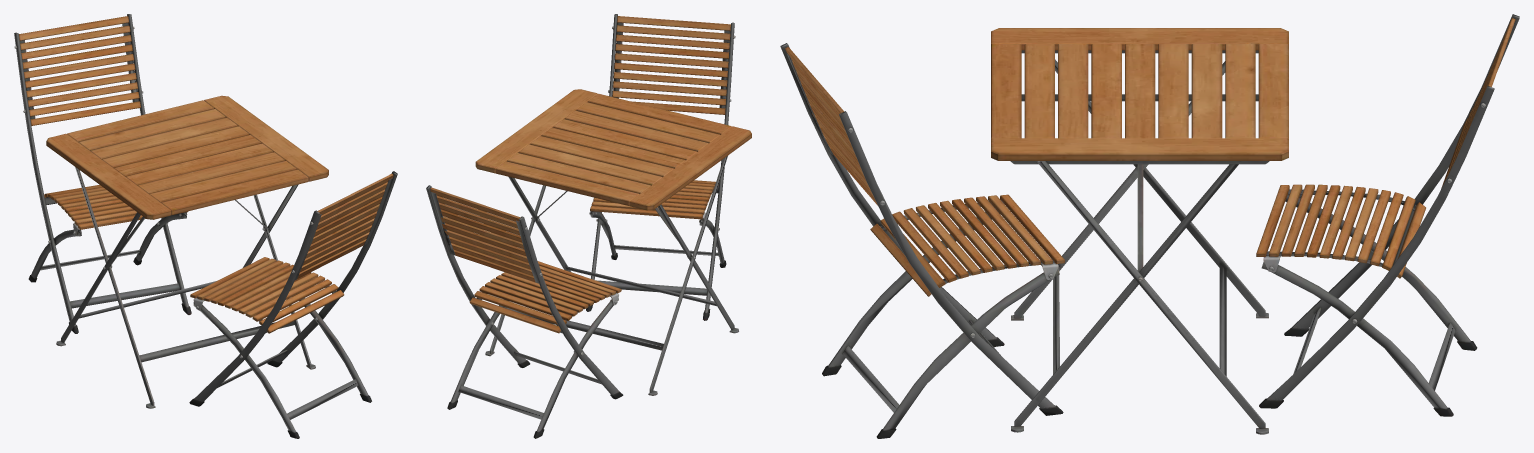
File: outdoor_table_chair_set_01.glb
3 views of the same model, side by side, from view 1: azimuth 30°, elevation 25°; view 2: azimuth 150°, elevation 25°; view 3: azimuth 270°, elevation 25° (orthographic). The views are drawn at different scales.
Visible parts, largest first — view 1: outdoor_table_chair_set_01_chair_01, outdoor_table_chair_set_01_table; view 2: outdoor_table_chair_set_01_chair_01, outdoor_table_chair_set_01_table; view 3: outdoor_table_chair_set_01_table, outdoor_table_chair_set_01_chair_01.
Part boxes in pixels (bbox=[...]): outdoor_table_chair_set_01_chair_01: bbox=[14, 14, 397, 438]; outdoor_table_chair_set_01_table: bbox=[46, 95, 328, 408]; outdoor_table_chair_set_01_chair_01: bbox=[426, 14, 735, 438]; outdoor_table_chair_set_01_table: bbox=[475, 89, 751, 395]; outdoor_table_chair_set_01_table: bbox=[991, 28, 1288, 434]; outdoor_table_chair_set_01_chair_01: bbox=[780, 14, 1519, 438].
Size of the model in its own units: 0.7417 by 0.8576 by 1.72.
Materials: 2 (2 with a texture image).
